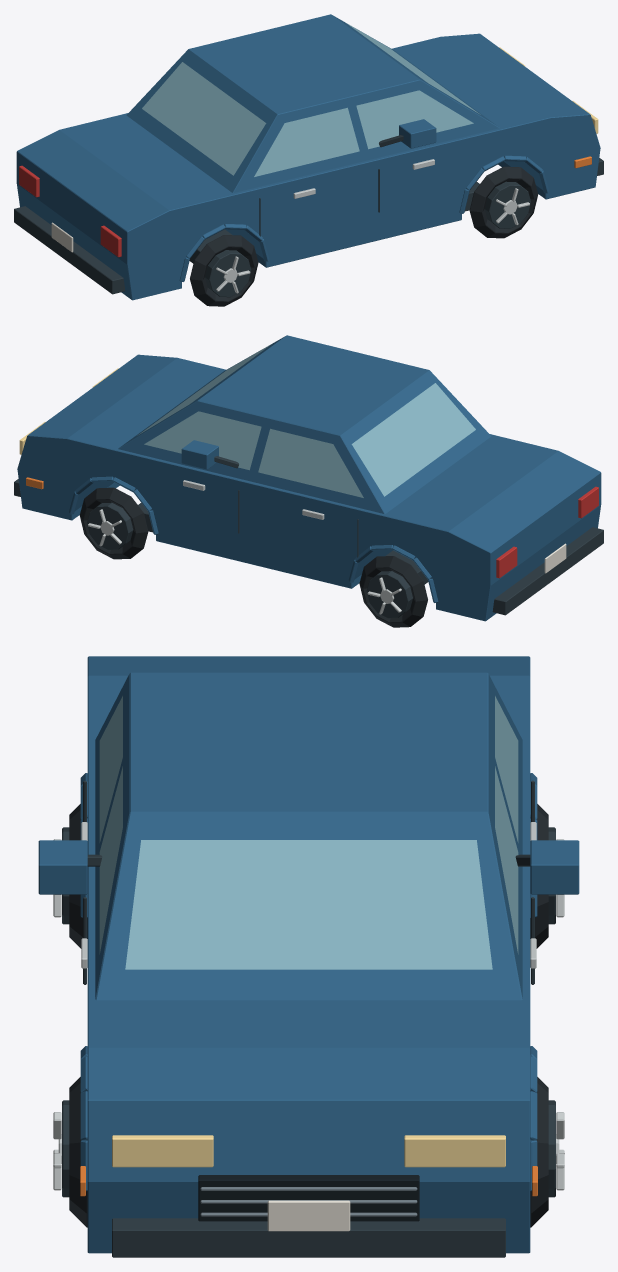
File: b03_compact_notchback_sedan.glb
The picture shows the model from 3 angles, top to bottom: view 1: azimuth 30°, elevation 25°; view 2: azimuth 150°, elevation 25°; view 3: azimuth 270°, elevation 25°; orthographic projection. The views are drawn at different scales.
Visible parts, largest first — view 1: b03_compact_notchback_sedan; view 2: b03_compact_notchback_sedan; view 3: b03_compact_notchback_sedan.
Part boxes in pixels (box(x1,y1,x2,y2)): b03_compact_notchback_sedan: box(14, 14, 603, 306); b03_compact_notchback_sedan: box(14, 335, 603, 627); b03_compact_notchback_sedan: box(38, 656, 579, 1257).
Size of the model in its own units: 4.44 by 1.45 by 2.1.
